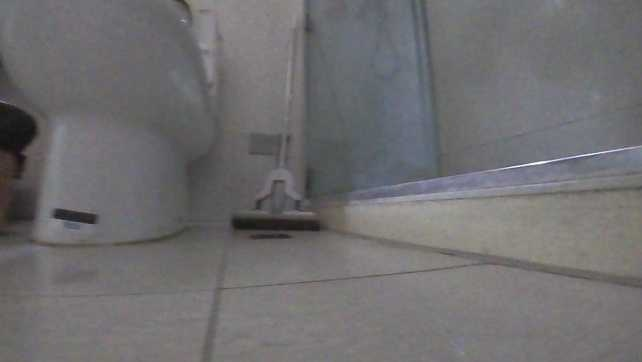toilet: (0, 0, 220, 247)
